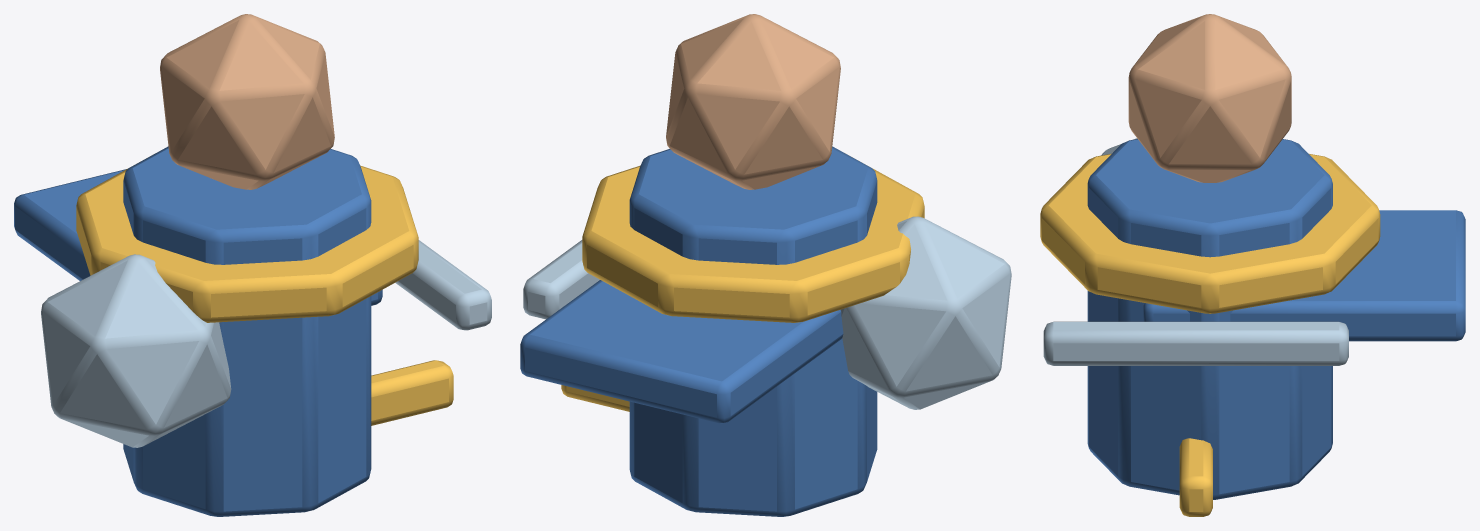
Rendered from hero_basic.glb.
The picture shows the model from 3 angles, left to right: view 1: azimuth 30°, elevation 25°; view 2: azimuth 150°, elevation 25°; view 3: azimuth 270°, elevation 25°; orthographic projection. The views are drawn at different scales.
Parts seen in each view (by area): view 1: Body, Shield, Head, ShoulderGuard, Cape, Sword, SwordHilt; view 2: Body, Cape, ShoulderGuard, Head, Shield, Sword, SwordHilt; view 3: Body, ShoulderGuard, Head, Cape, Sword, SwordHilt.
Boxes of the visible parts, x1,y1,x2,y2 form: Body: (123,146,371,516); Shield: (41,254,231,447); Head: (160,14,334,189); ShoulderGuard: (76,158,418,322); Cape: (14,169,382,305); Sword: (395,240,491,330); SwordHilt: (371,360,453,425); Body: (629,146,877,516); Cape: (520,280,843,423); ShoulderGuard: (582,157,924,322); Head: (666,14,840,189); Shield: (840,216,1011,409); Sword: (523,240,599,319); SwordHilt: (561,385,629,411); Body: (1087,139,1332,499); ShoulderGuard: (1040,153,1380,313); Head: (1128,14,1291,182); Cape: (1143,210,1465,341); Sword: (1043,321,1348,365); SwordHilt: (1179,438,1212,516).
Bounding box in the file's own units: 1.66 × 1.74 × 1.53.
